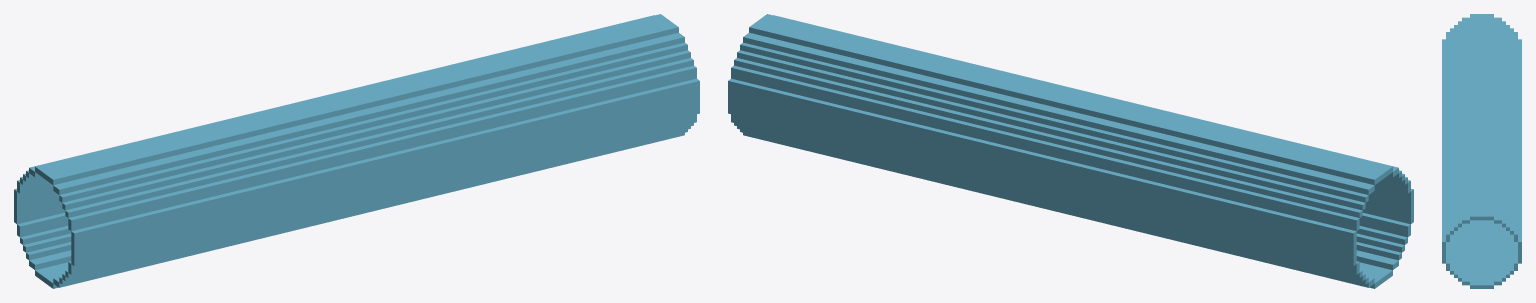
The model's file is Pipelength120.obj.
3 views of the same model, side by side, from view 1: azimuth 30°, elevation 25°; view 2: azimuth 150°, elevation 25°; view 3: azimuth 270°, elevation 25° (orthographic). The views are drawn at different scales.
Size of the model in its own units: 120 by 20 by 20.
1 material, 1 textured.
